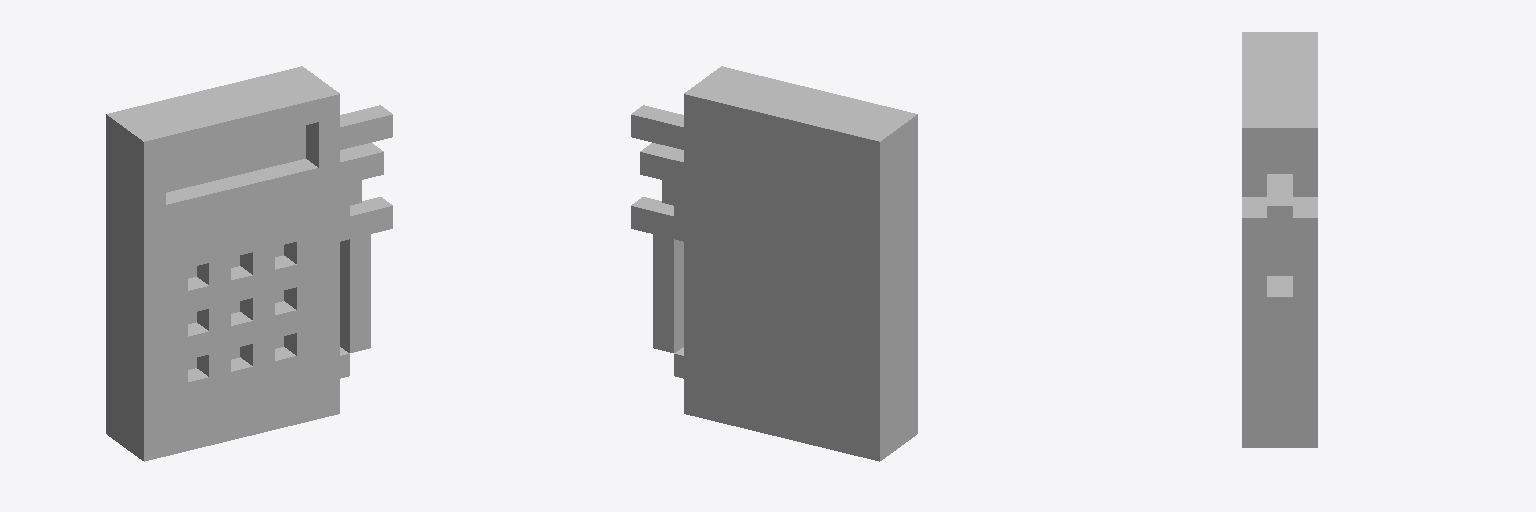
Rendered from phone.obj.
3 renders of one model, left to right at view 1: azimuth 30°, elevation 25°; view 2: azimuth 150°, elevation 25°; view 3: azimuth 270°, elevation 25°, orthographic.
Visible parts, largest first — view 1: object 1; view 2: object 1; view 3: object 1.
Part boxes in pixels (bbox=[...]): object 1: bbox=[106, 66, 392, 461]; object 1: bbox=[631, 66, 917, 461]; object 1: bbox=[1242, 32, 1317, 447].
Size of the model in its own units: 1.2 by 1.4 by 0.3.